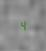four: (19, 20, 25, 30)
